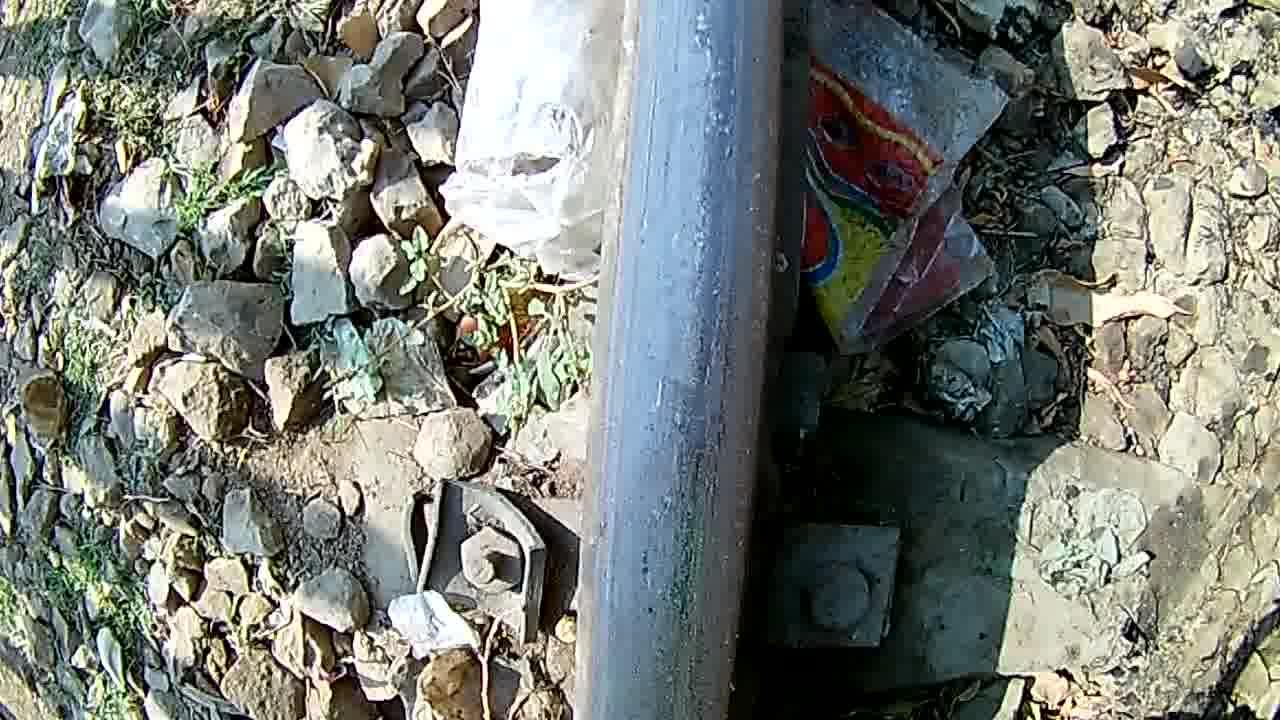clip_missing: (634, 1, 758, 717)
